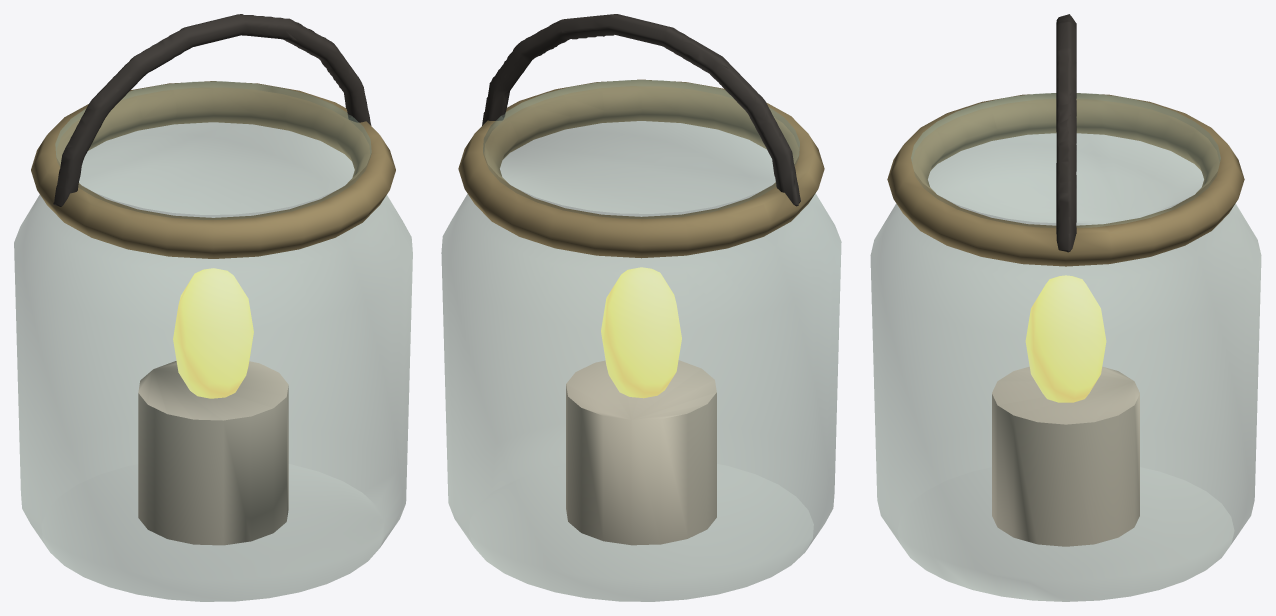
File: mire_jar_lantern.glb
3 views of the same model, side by side, from view 1: azimuth 30°, elevation 25°; view 2: azimuth 150°, elevation 25°; view 3: azimuth 270°, elevation 25° (orthographic). The views are drawn at different scales.
Parts seen in each view (by area): view 1: mire_jar_lantern, flame; view 2: mire_jar_lantern, flame; view 3: mire_jar_lantern, flame.
Boxes of the visible parts, x1,y1,x2,y2 form: mire_jar_lantern: (14,14,412,601); flame: (173,268,253,398); mire_jar_lantern: (441,14,841,601); flame: (601,267,681,398); mire_jar_lantern: (870,14,1261,601); flame: (1025,275,1106,402).
Bounding box in the file's own units: 1.16 × 1.62 × 1.16.
